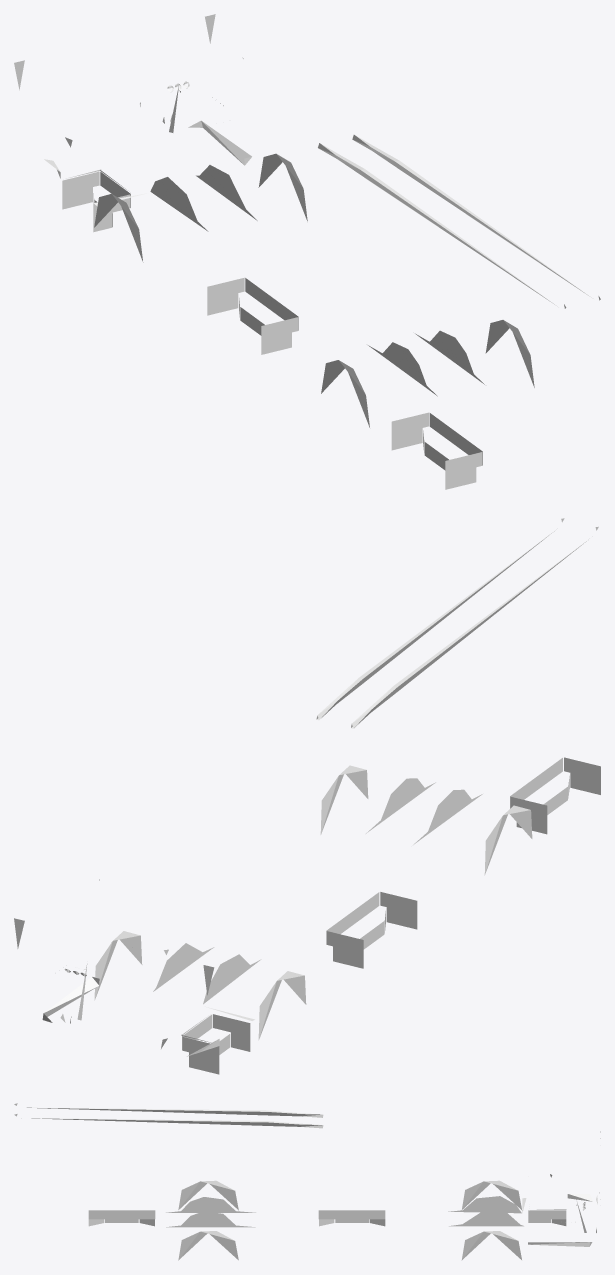
The picture shows the model from 3 angles, top to bottom: view 1: azimuth 30°, elevation 25°; view 2: azimuth 150°, elevation 25°; view 3: azimuth 270°, elevation 25°; orthographic projection. The views are drawn at different scales.
Bounding box in the file's own units: 2.93 × 2.95 × 11.84.
Materials: 1 (1 with a texture image).
